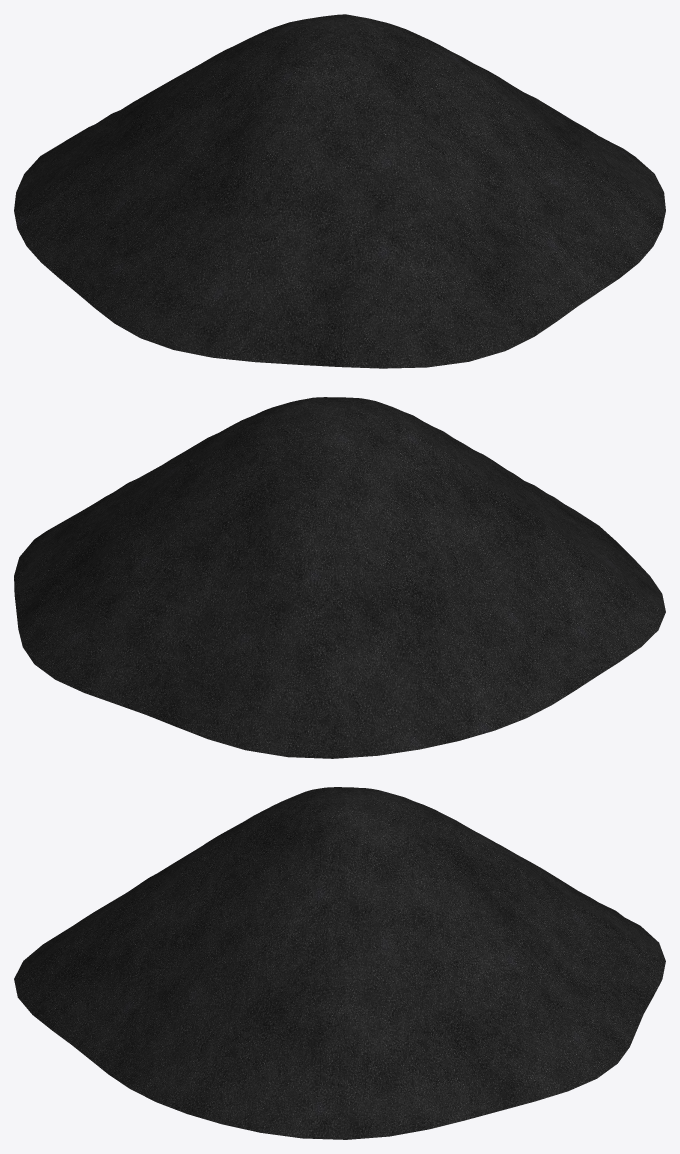
File: PAV-ASF-002_lod1.glb
3 renders of one model, top to bottom at view 1: azimuth 30°, elevation 25°; view 2: azimuth 150°, elevation 25°; view 3: azimuth 270°, elevation 25°, orthographic. The views are drawn at different scales.
Visible parts, largest first — view 1: PAV-ASF-002_monte; view 2: PAV-ASF-002_monte; view 3: PAV-ASF-002_monte.
Part boxes in pixels (x1,y1,x2,y2): PAV-ASF-002_monte: (14, 14, 665, 368); PAV-ASF-002_monte: (14, 397, 665, 758); PAV-ASF-002_monte: (14, 787, 665, 1139).
Size of the model in its own units: 1.67 by 0.5763 by 1.7.
Materials: 1 (1 with a texture image).
